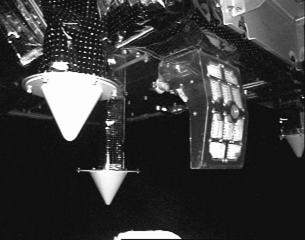antenna: (20, 0, 119, 142), (76, 53, 141, 206), (275, 93, 305, 159)
body: (0, 0, 305, 127)
